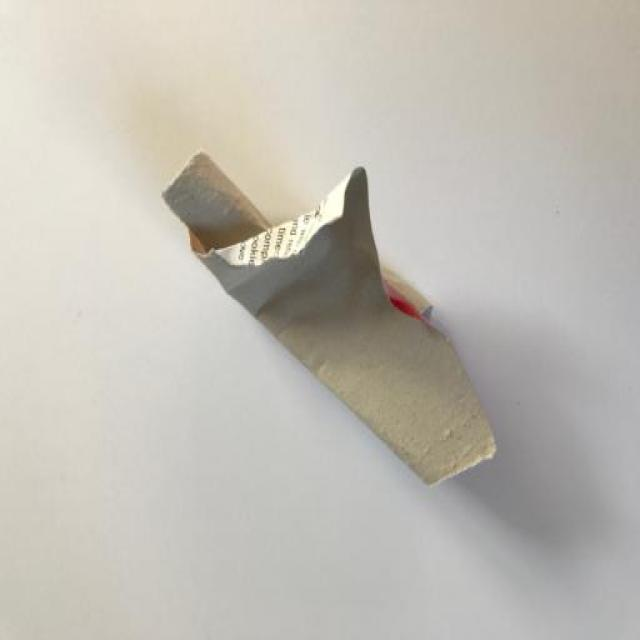paper: (144, 120, 560, 505)
